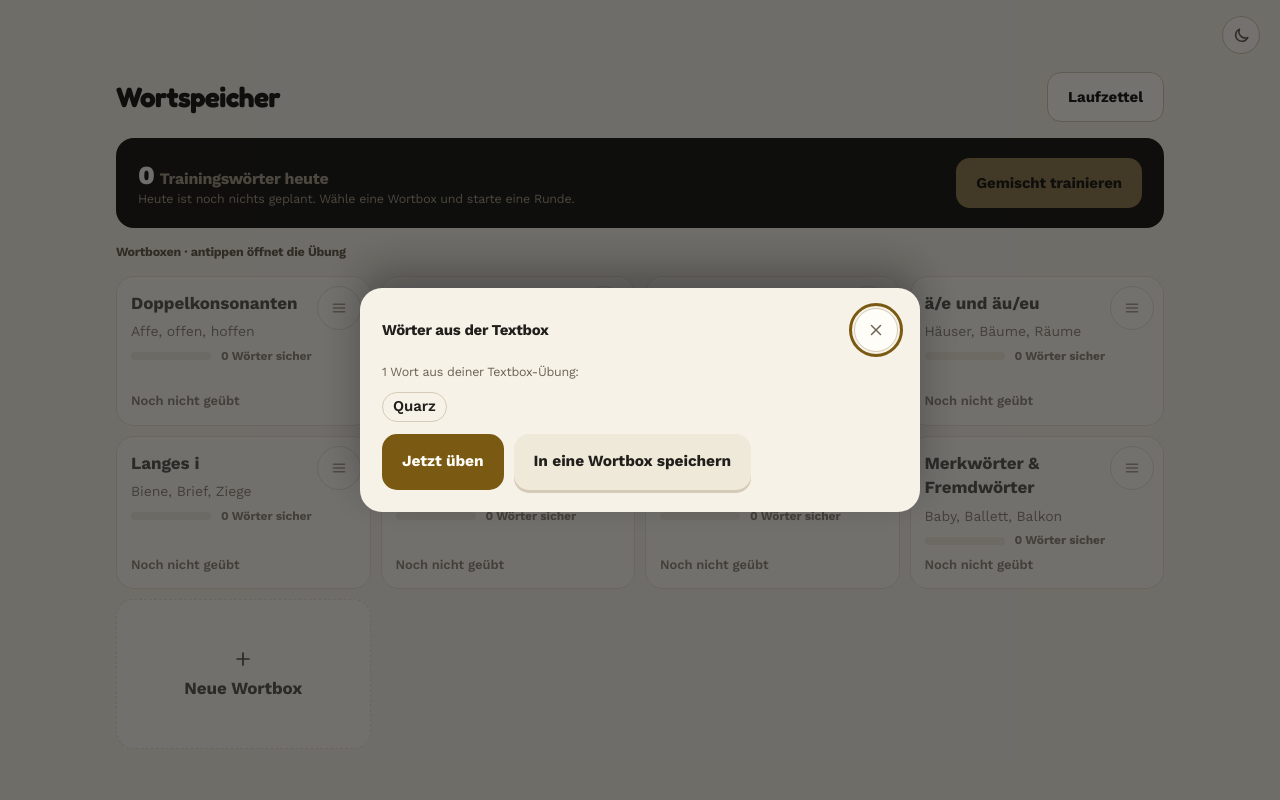
it: Wortspeicher ↔ Textbox › zeigt die Aktion nicht, solange die Textbox in der Vorschau ist
Step 1. Click the button "Jetzt üben" → (443, 462), box [382,434,504,490]
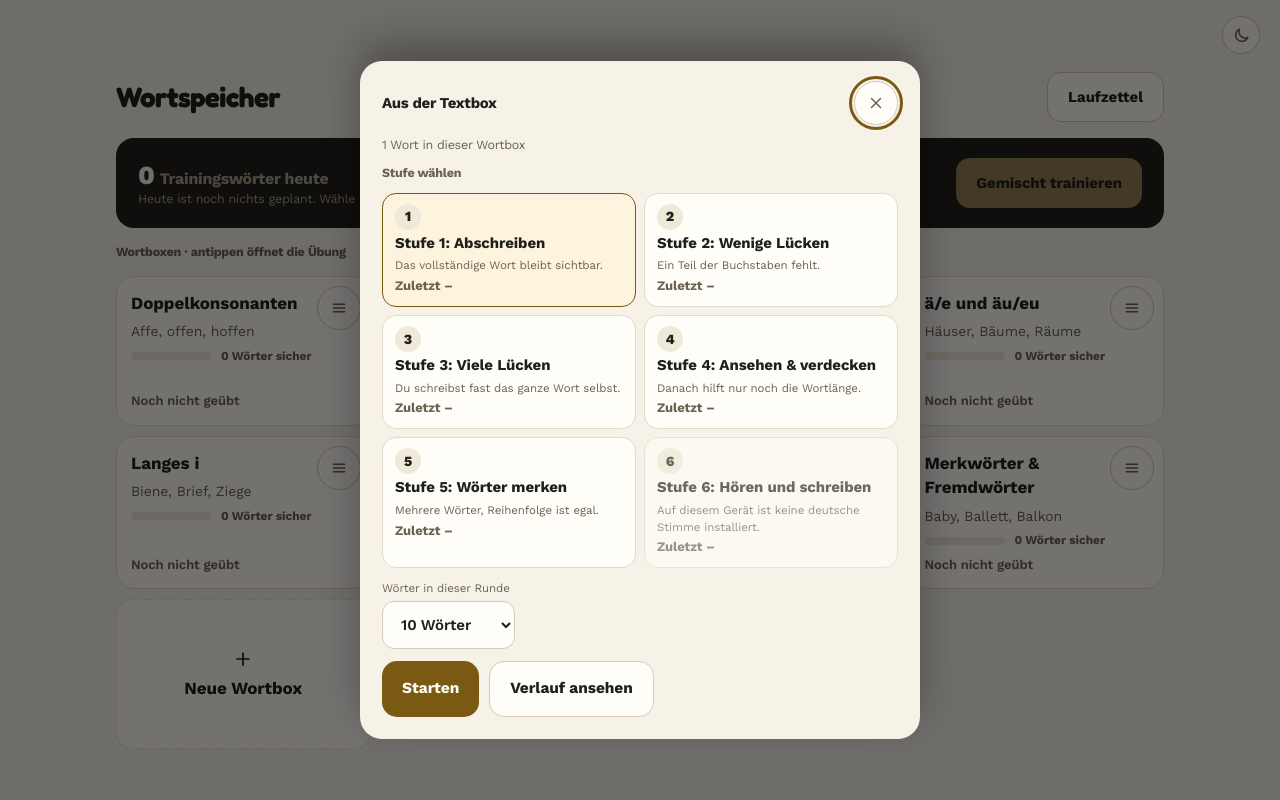
Step 2. Click the button "Starten" → (431, 689), box [382,661,479,717]
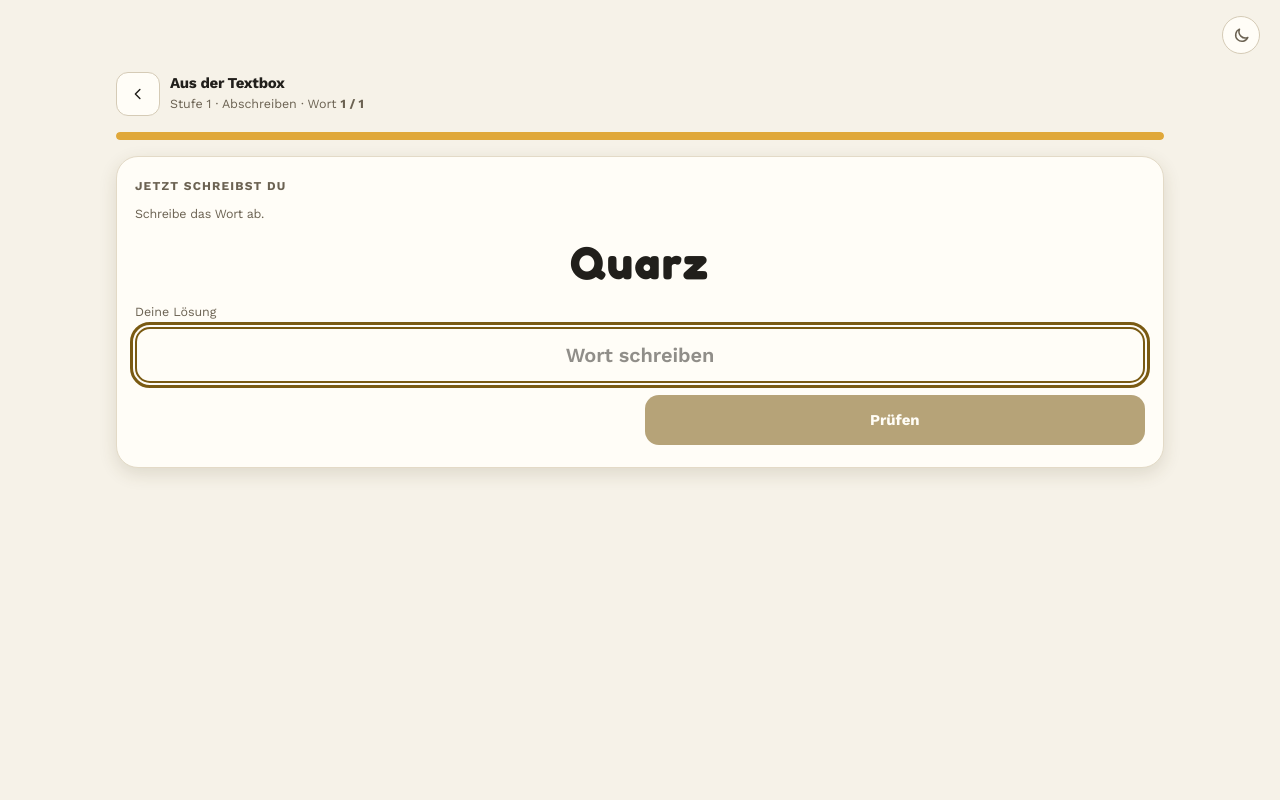
Step 3. Type "Quarz" into the field labelled "Deine Lösung" → (640, 355), box [135,327,1145,383]
Then press Enter
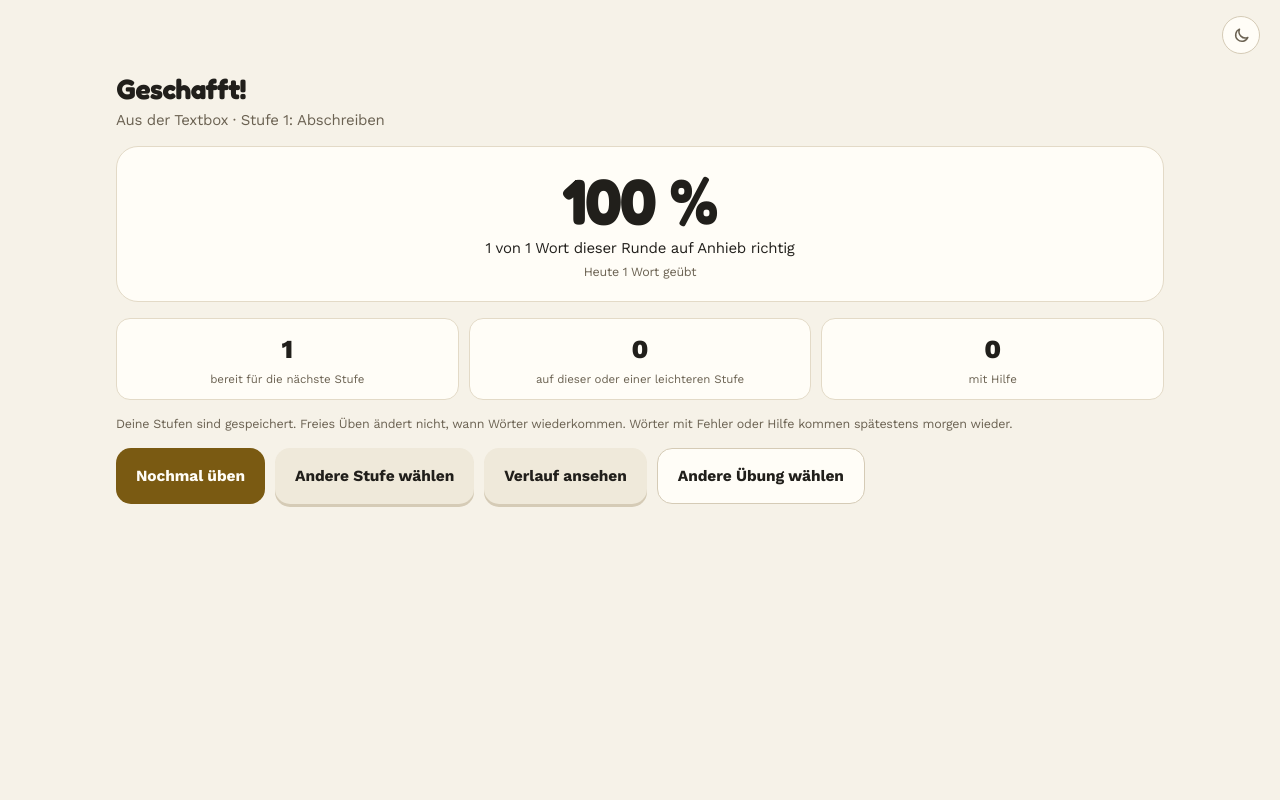
Check: the heading "Geschafft!" is shown, box [116,72,246,106]
Check: the link "Andere Übung wählen" is shown, box [657,448,865,504]
